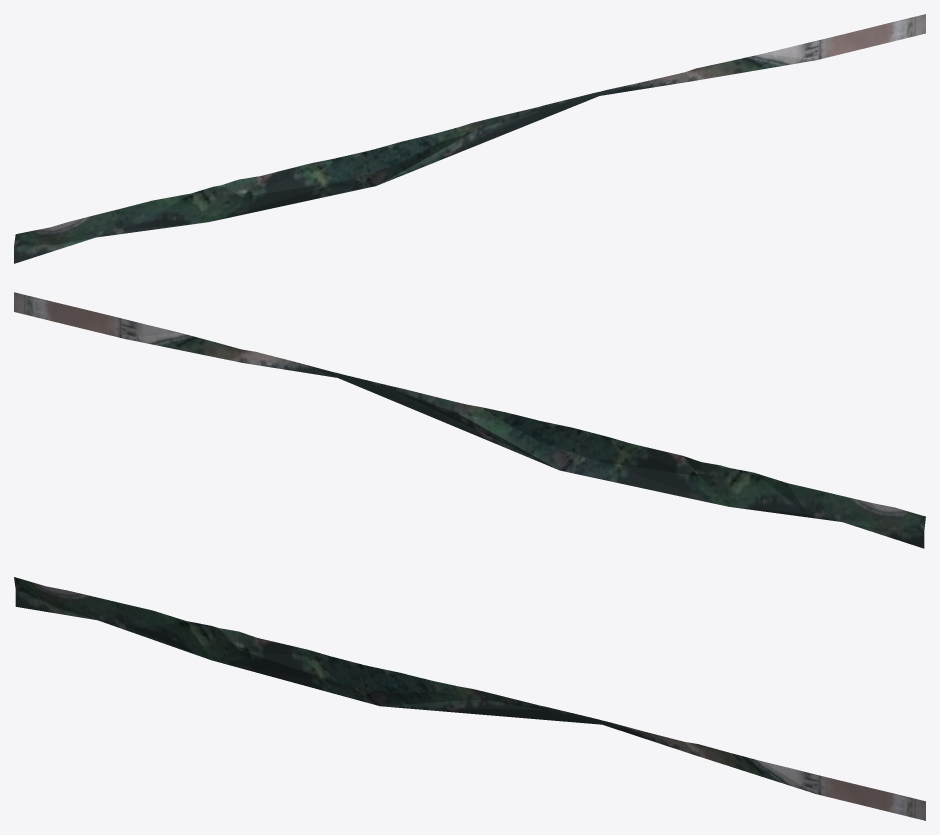
3 views of the same model, one above another, from view 1: azimuth 30°, elevation 25°; view 2: azimuth 150°, elevation 25°; view 3: azimuth 330°, elevation 25° (orthographic).
Parts seen in each view (by area): view 1: 0_2_3_1_1_3; view 2: 0_2_3_1_1_3; view 3: 0_2_3_1_1_3.
Part boxes in pixels (x1=…): 0_2_3_1_1_3: x1=14, y1=14, x2=925, y2=263; 0_2_3_1_1_3: x1=14, y1=292, x2=925, y2=548; 0_2_3_1_1_3: x1=14, y1=577, x2=925, y2=820.
Bounding box in the file's own units: 486 × 21.17 × 4.02.
Materials: 1 (1 with a texture image).
